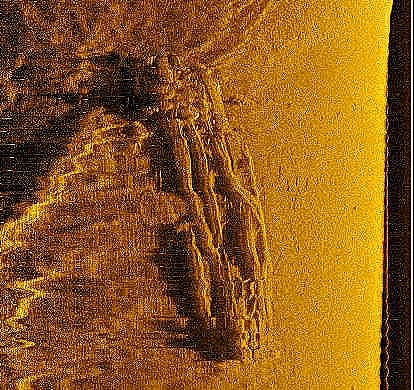ship: (155, 52, 273, 365)
